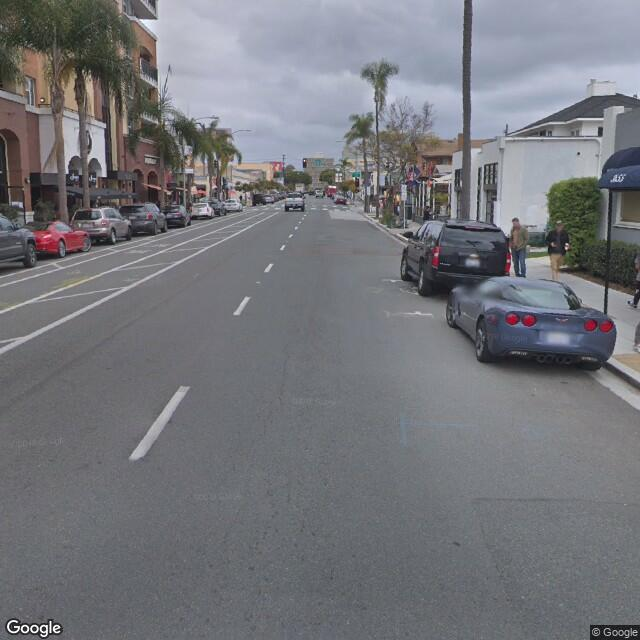road line: (115, 297, 255, 470), (267, 239, 290, 276)
